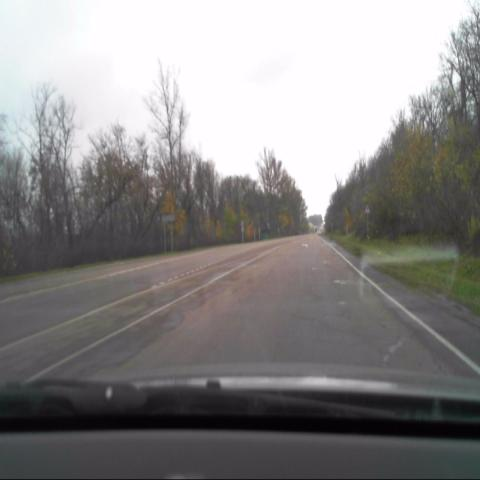1_22: (364, 201, 373, 218)
